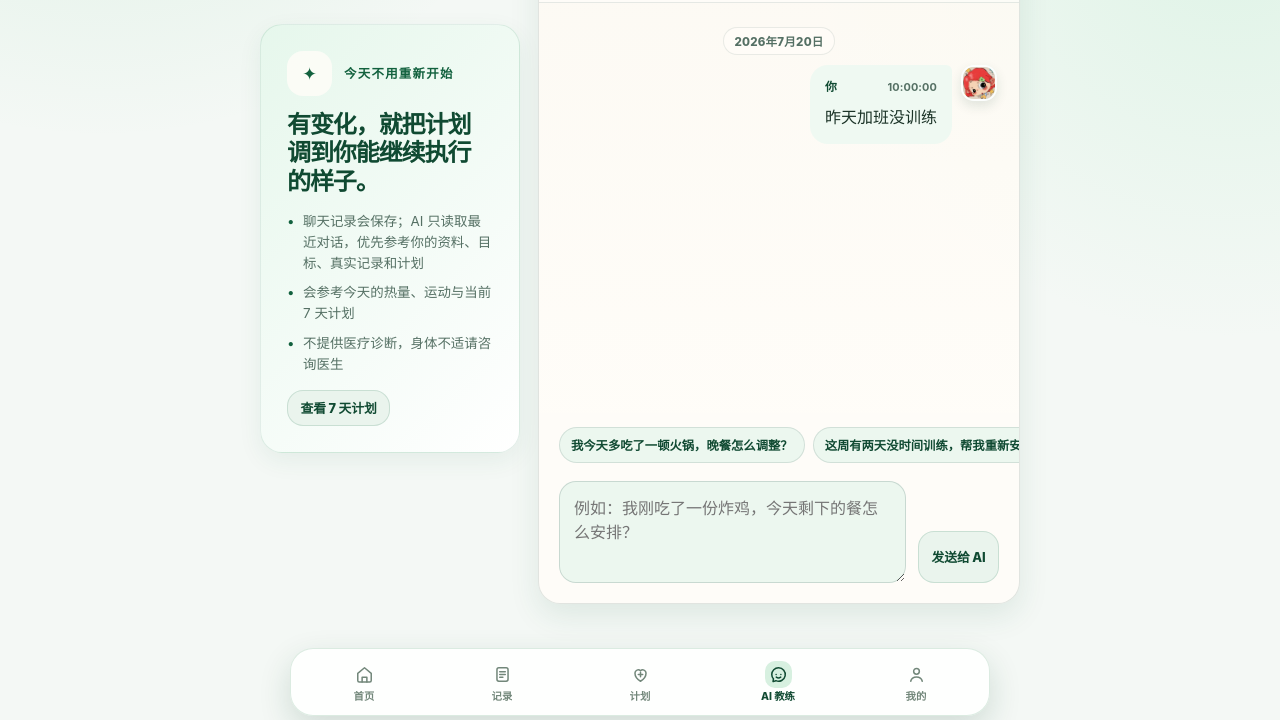
Test: CoachPage › loads saved messages and appends an AI response
(page scrolled)
Expected: the text "昨天加班没训练" is shown, [825,104,937,131]
Expected: the element with class "coach-guide__eyebrow" reads "✦ 今天不用重新开始", [287,51,454,96]
Type "今天也只能练 20 分钟" into the text box named "告诉 AI 教练你的变化". click: (733, 532)
box: [559,481,906,583]
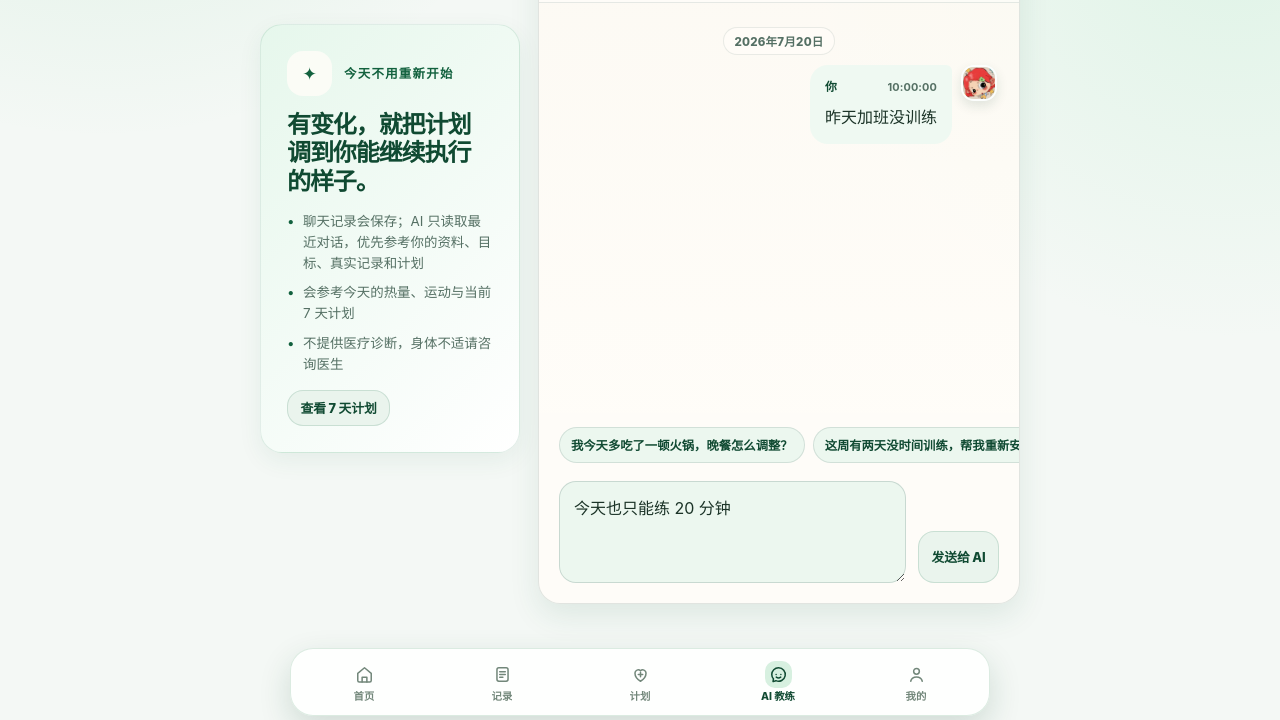
Click the button "发送给 AI". click: (959, 557)
box: [918,531,999,583]
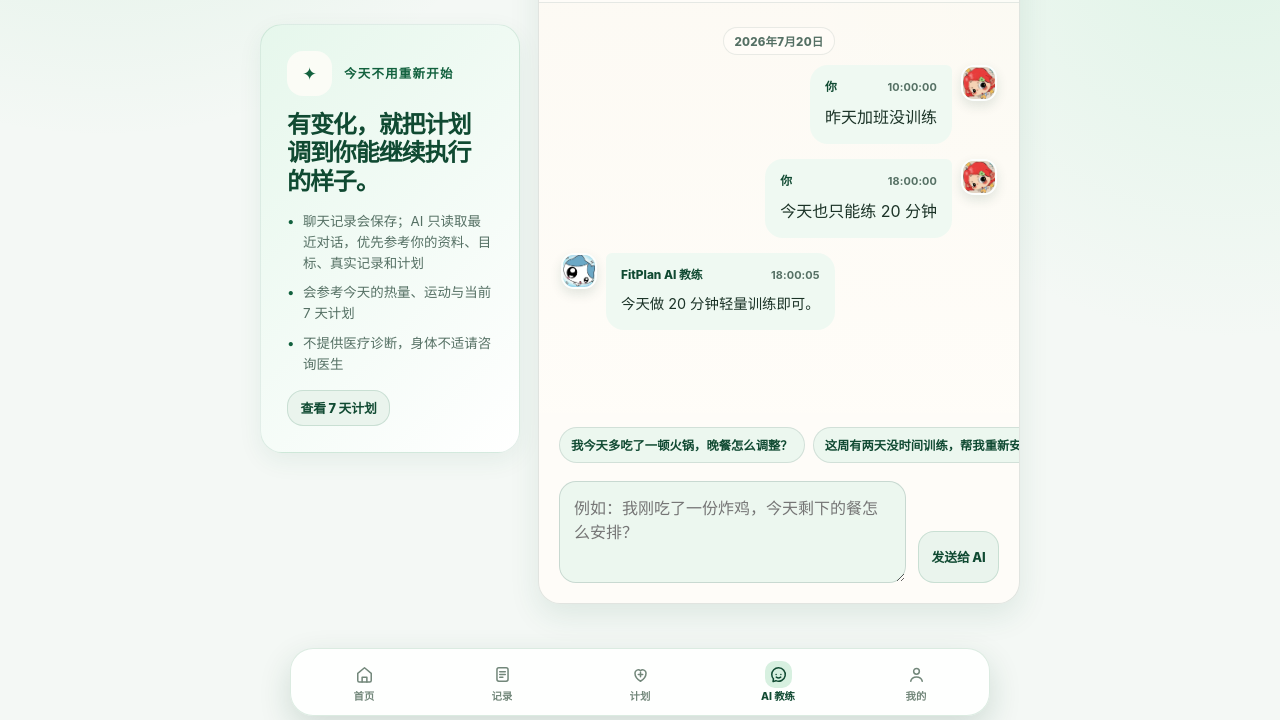
Expected: the text "今天做 20 分钟轻量训练即可。" is shown, [621,292,820,317]
